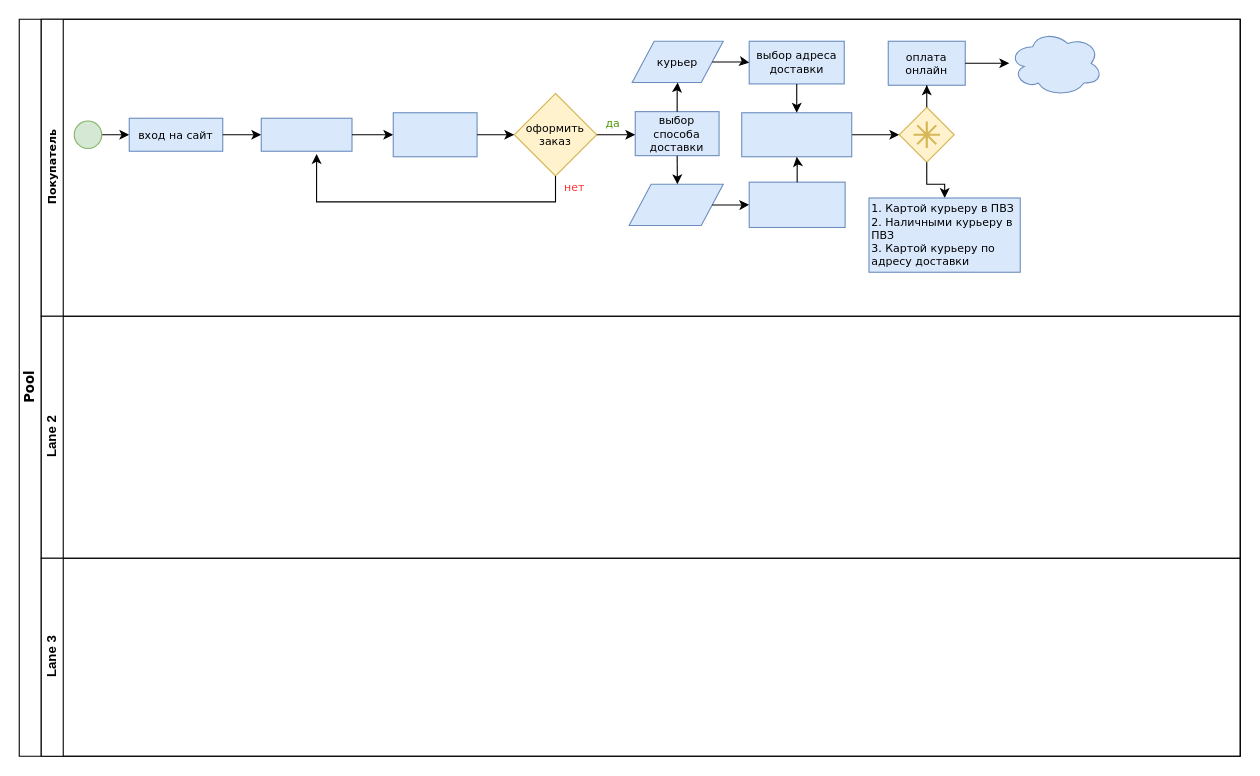
The diagram is 1260 pixels wide and 776 high, and some of its shapes have lost their labels. Each missing label, with the box of its shape:
выбор пункта самовывоза: (748, 181, 845, 227)
выбор способа оплаты: (741, 112, 852, 157)
выбор товаров: (260, 117, 352, 151)
добавление в корзину: (392, 112, 477, 157)
платежный шлюз: (1008, 29, 1103, 96)
самовывоз: (628, 183, 723, 226)
